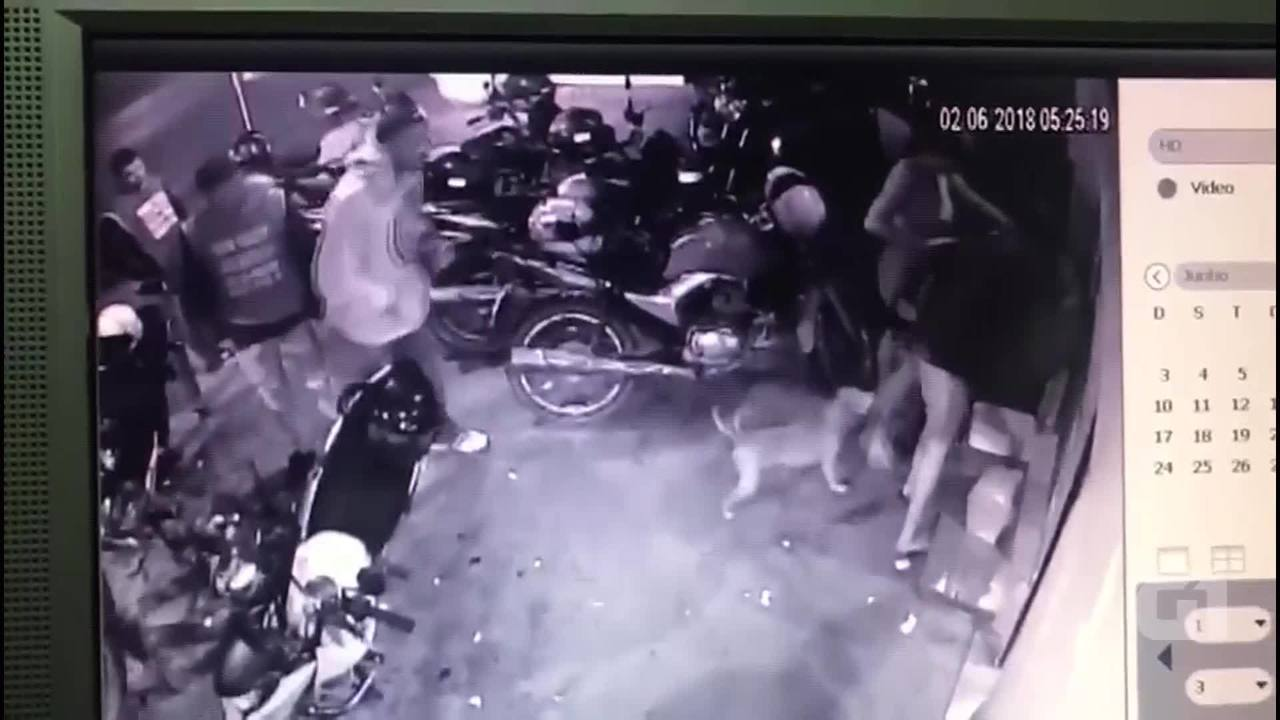Humano: (195, 163, 331, 448), (323, 115, 456, 368), (856, 140, 1015, 324), (101, 150, 188, 286)
